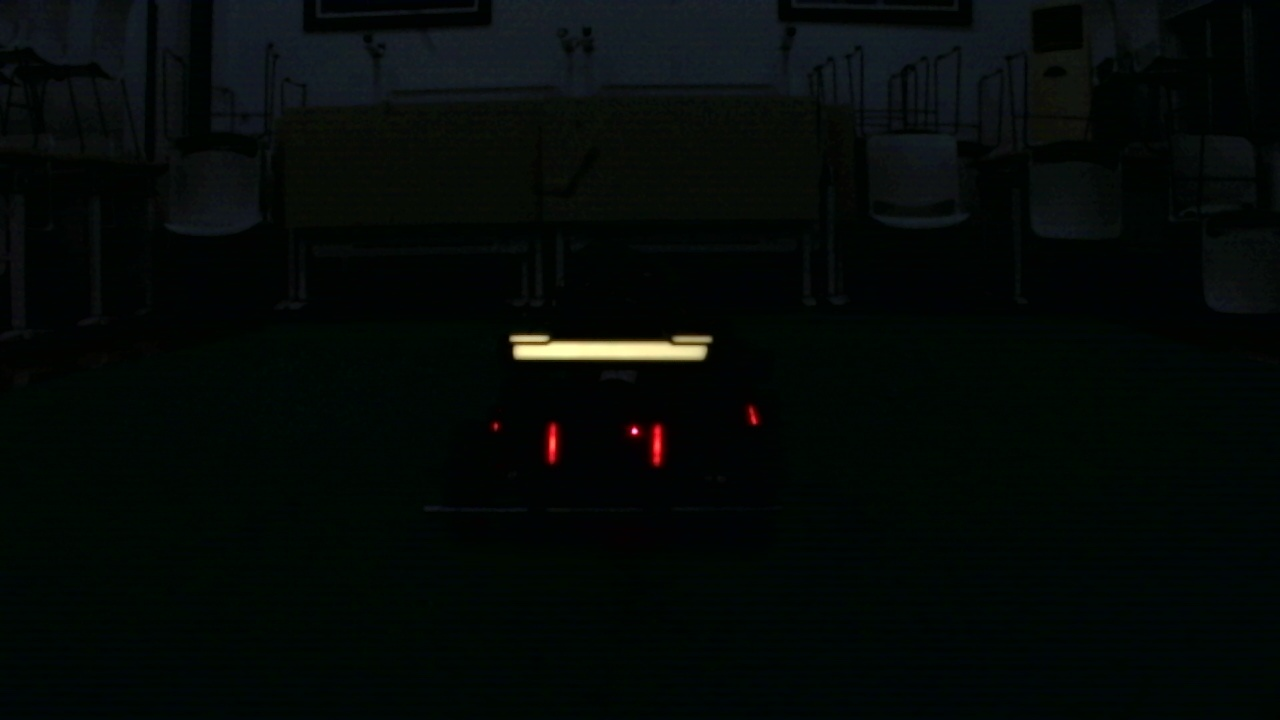lamp: (650, 424, 663, 471), (548, 419, 555, 467)
pair1: (544, 419, 664, 469)
